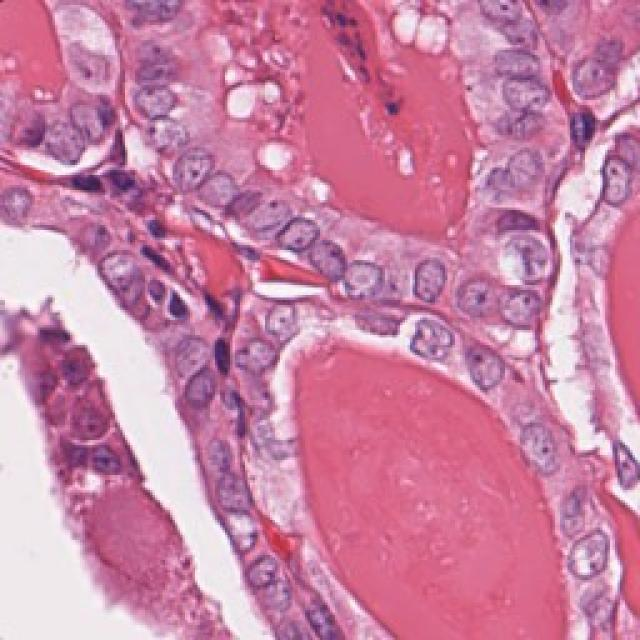abnormal: (488, 392, 566, 491), (480, 217, 560, 296), (479, 140, 572, 204), (554, 512, 630, 590), (205, 501, 297, 563), (395, 226, 455, 319), (457, 331, 526, 410), (125, 66, 203, 133), (171, 327, 229, 405), (457, 250, 511, 330), (97, 241, 170, 300), (334, 233, 386, 314), (564, 33, 624, 103), (585, 152, 640, 228), (259, 298, 321, 362), (407, 293, 449, 380), (483, 74, 574, 114), (280, 183, 327, 259), (168, 128, 215, 195), (201, 159, 245, 224), (234, 336, 279, 393)
